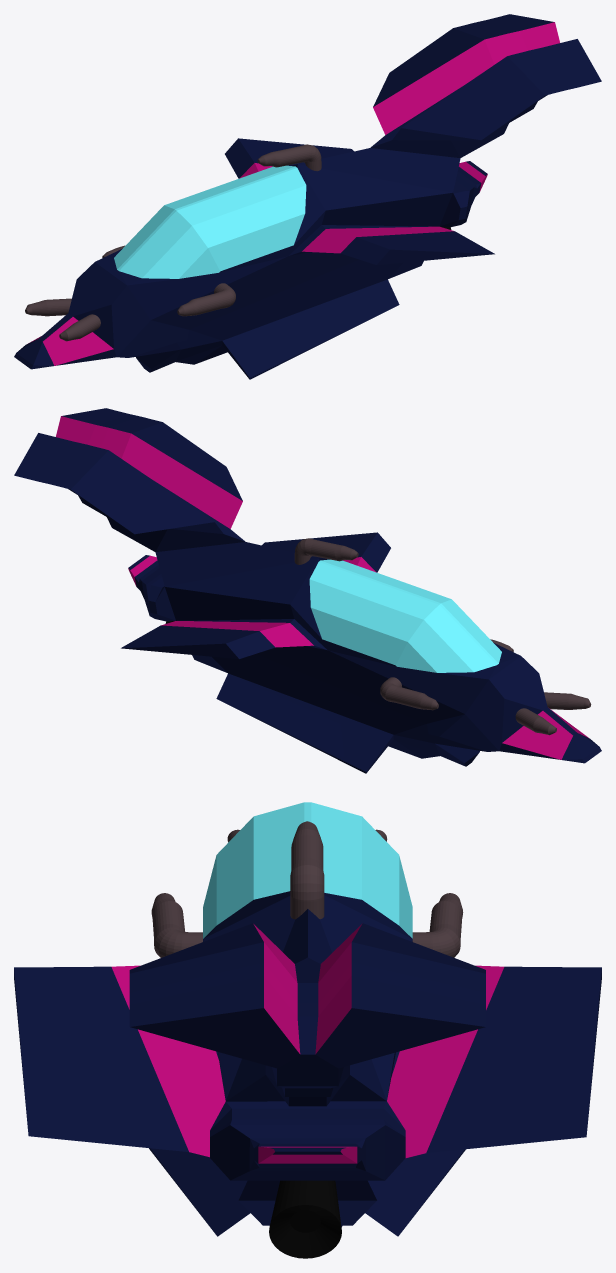
The model's file is ship_enemy_front_cannons.fbx.
3 views of the same model, one above another, from view 1: azimuth 30°, elevation 25°; view 2: azimuth 150°, elevation 25°; view 3: azimuth 270°, elevation 25° (orthographic). The views are drawn at different scales.
Parts seen in each view (by area): view 1: Ship_enemy; view 2: Ship_enemy; view 3: Ship_enemy.
Boxes of the visible parts, x1=… form: Ship_enemy: x1=14, y1=14, x2=601, y2=379; Ship_enemy: x1=14, y1=408, x2=601, y2=773; Ship_enemy: x1=14, y1=802, x2=601, y2=1258.
Bounding box in the file's own units: 387 × 162 × 187.
